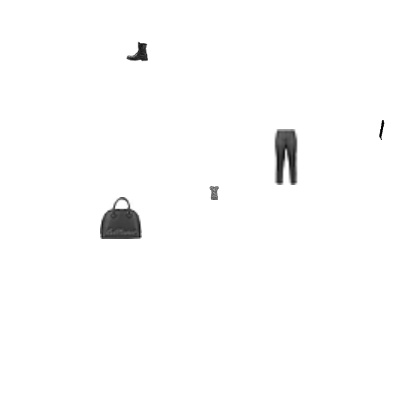1: (367, 115, 395, 143)
Ankle_boot: (126, 40, 148, 62)
Bag: (100, 197, 142, 239)
T-shirt/top: (207, 186, 221, 200)
Trouser: (257, 129, 313, 185)
